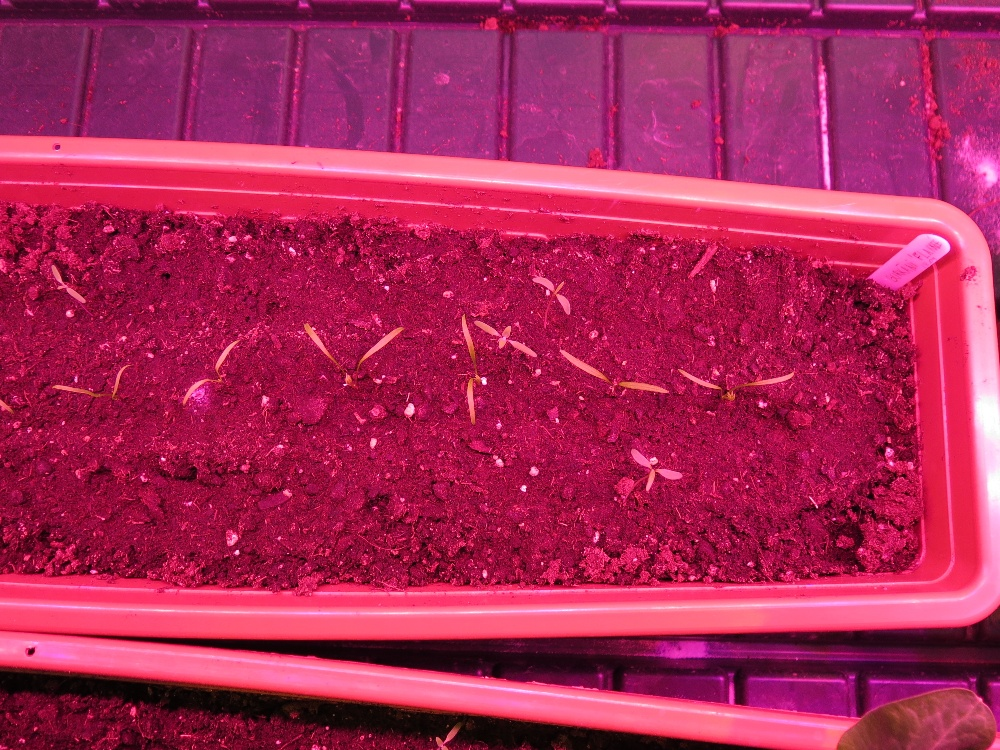crop: (301, 321, 406, 390), (557, 347, 670, 396), (675, 366, 798, 403), (180, 338, 240, 411), (50, 361, 135, 404)
weed: (630, 446, 684, 494), (473, 319, 537, 358), (530, 274, 571, 315), (50, 263, 87, 307)
